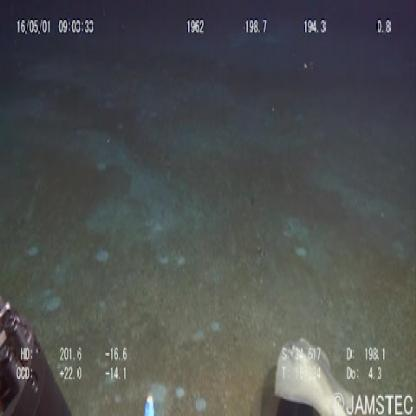Bio: (269, 325, 355, 416)
Rov: (0, 289, 75, 416)
